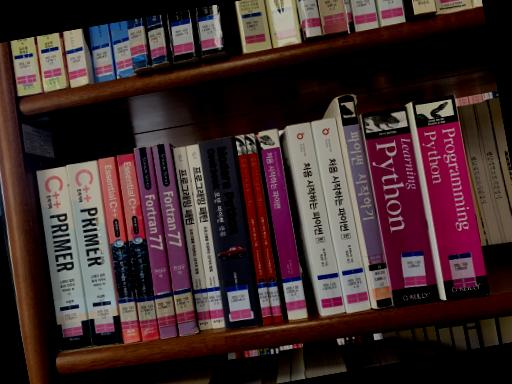book-spine: (412, 95, 490, 300), (362, 106, 440, 306), (338, 93, 393, 308), (200, 136, 260, 329), (312, 117, 371, 312), (288, 122, 345, 316), (67, 160, 121, 345), (36, 166, 90, 350), (259, 128, 307, 320), (152, 142, 198, 335), (134, 146, 177, 337), (99, 156, 140, 343), (118, 153, 159, 340), (245, 133, 283, 323), (173, 146, 212, 329), (235, 134, 272, 324), (187, 144, 225, 328)
